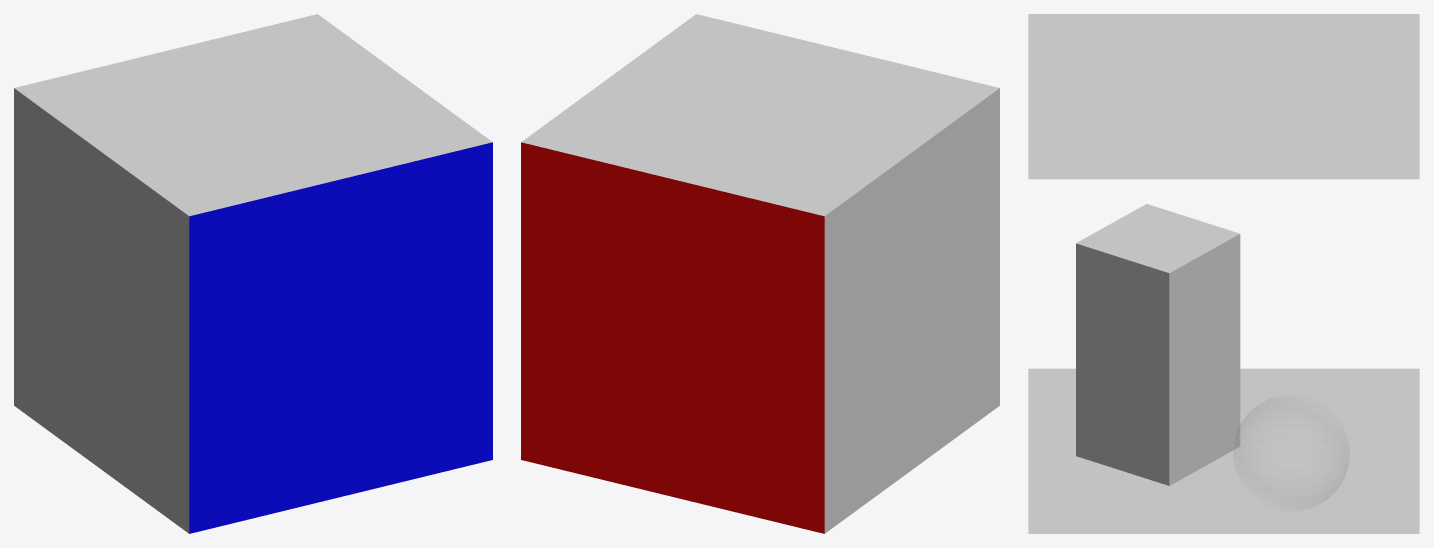
The model's file is mybox.glb.
3 views of the same model, side by side, from view 1: azimuth 30°, elevation 25°; view 2: azimuth 150°, elevation 25°; view 3: azimuth 270°, elevation 25° (orthographic). The views are drawn at different scales.
Parts seen in each view (by area): view 1: 平面.003, 平面, 平面.001; view 2: 平面.004, 平面, 平面.001; view 3: 平面.001, 平面.002, 立方体, 球体.
Boxes of the visible parts, x1,y1,x2,y2 form: 平面.003: (189,142,492,533); 平面: (14,88,189,533); 平面.001: (14,14,492,216); 平面.004: (521,142,824,533); 平面: (824,88,999,533); 平面.001: (521,14,999,216); 平面.001: (1028,14,1419,179); 平面.002: (1028,368,1419,533); 立方体: (1076,204,1240,485); 球体: (1233,395,1349,510).
Bounding box in the file's own units: 2 × 2 × 2.
